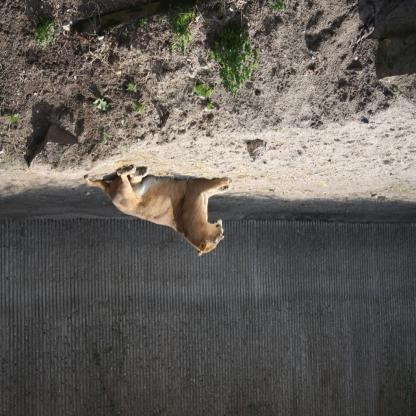lion: (197, 216, 226, 260)
